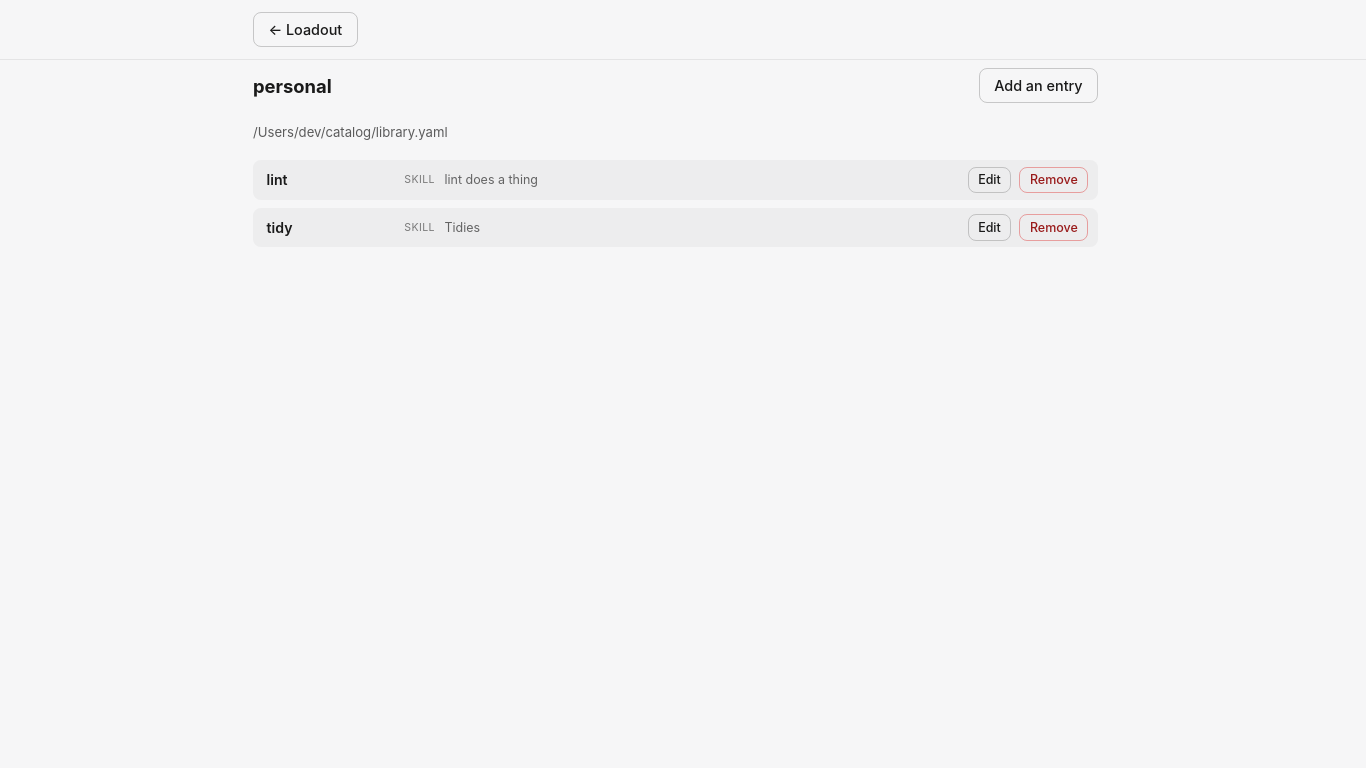
Scenario: UI-47: editing an entry › sends only the fields that changed, and can't save until something has
Click the button "Edit" in the row of "Tidies". click: {"x": 989, "y": 227}
box: [968,214,1011,241]
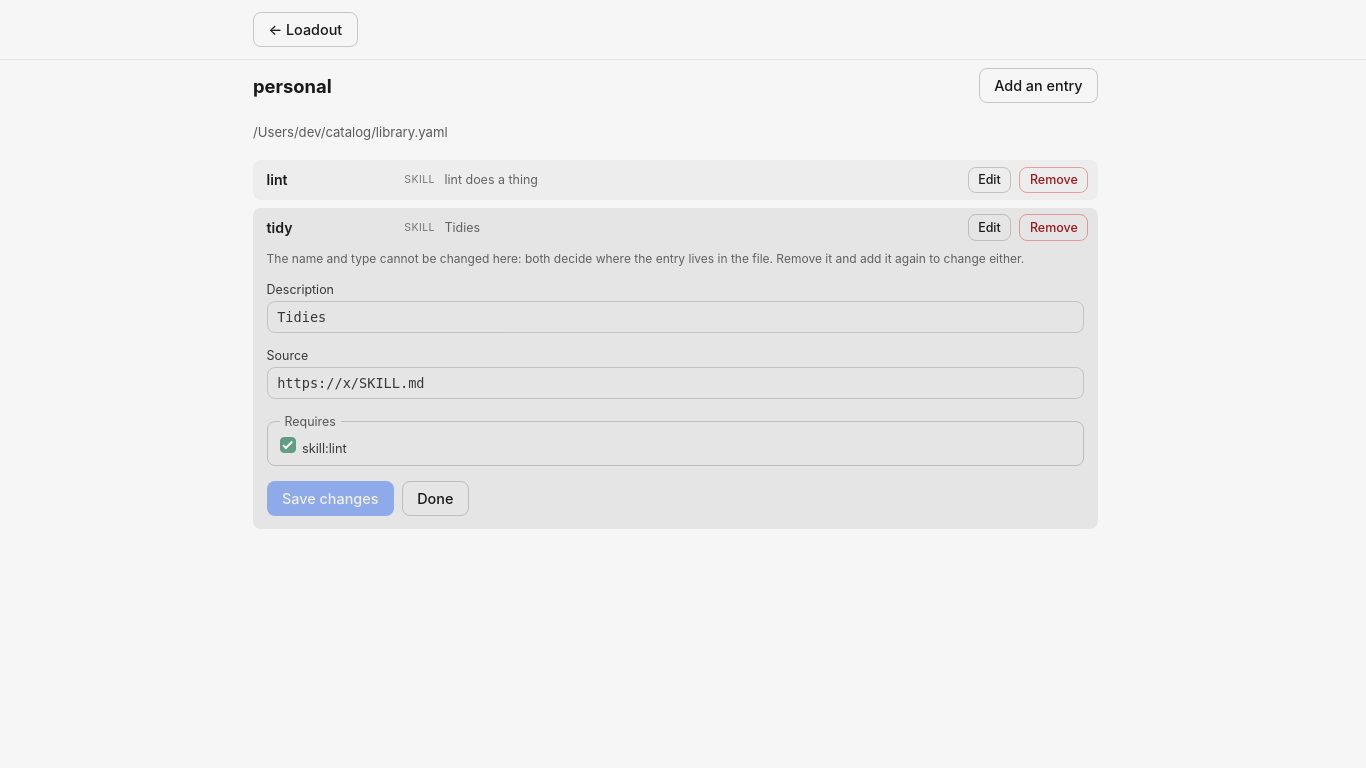
Expected: the text with class "editor__note" shows "The name and type cannot be changed here", [267,251,1024,266]
Expected: the button "Save changes" is disabled, [267,480,394,516]
Replace the text in the field labelled "Description" with "Tidies code ". click: {"x": 676, "y": 317}
box: [267,301,1084,333]
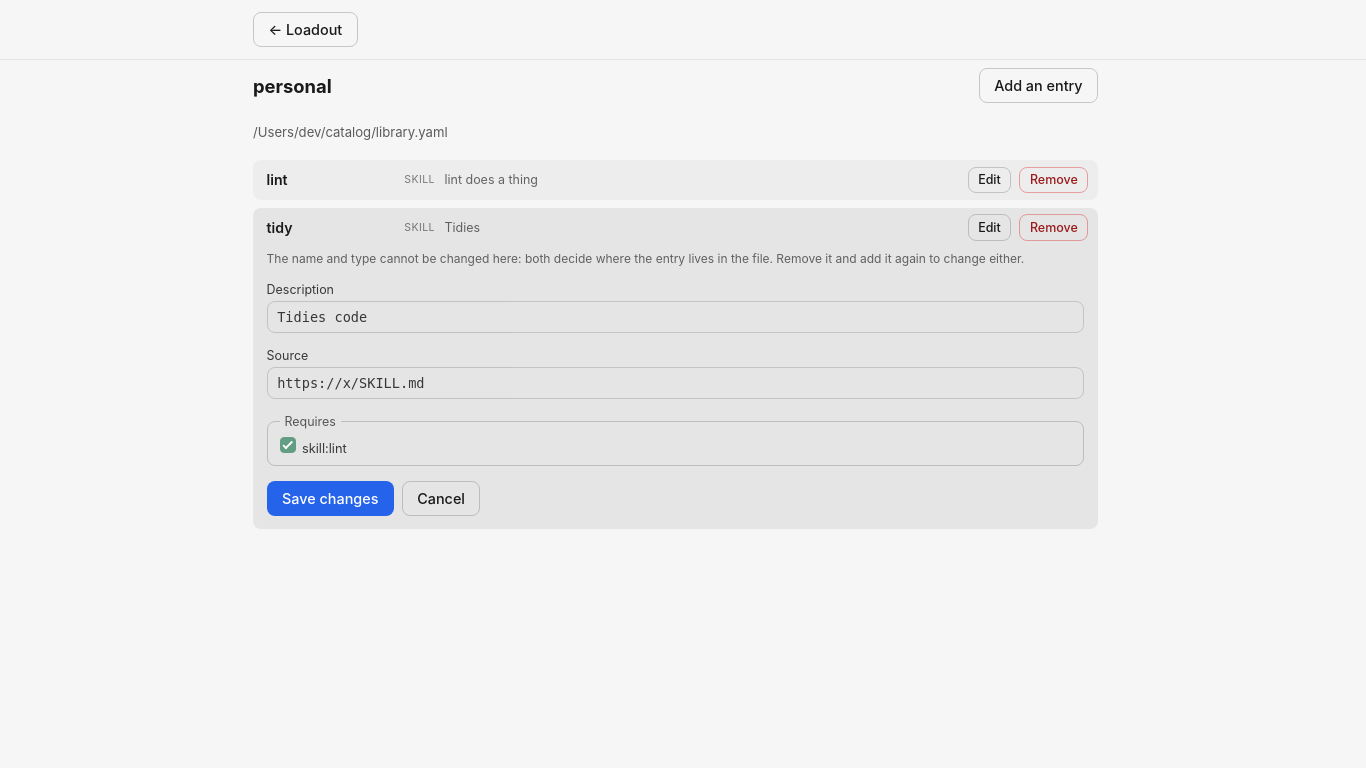
Expected: the button "Cancel" is shown, [402,480,480,516]
Submit the form, box [267,282,1084,516]
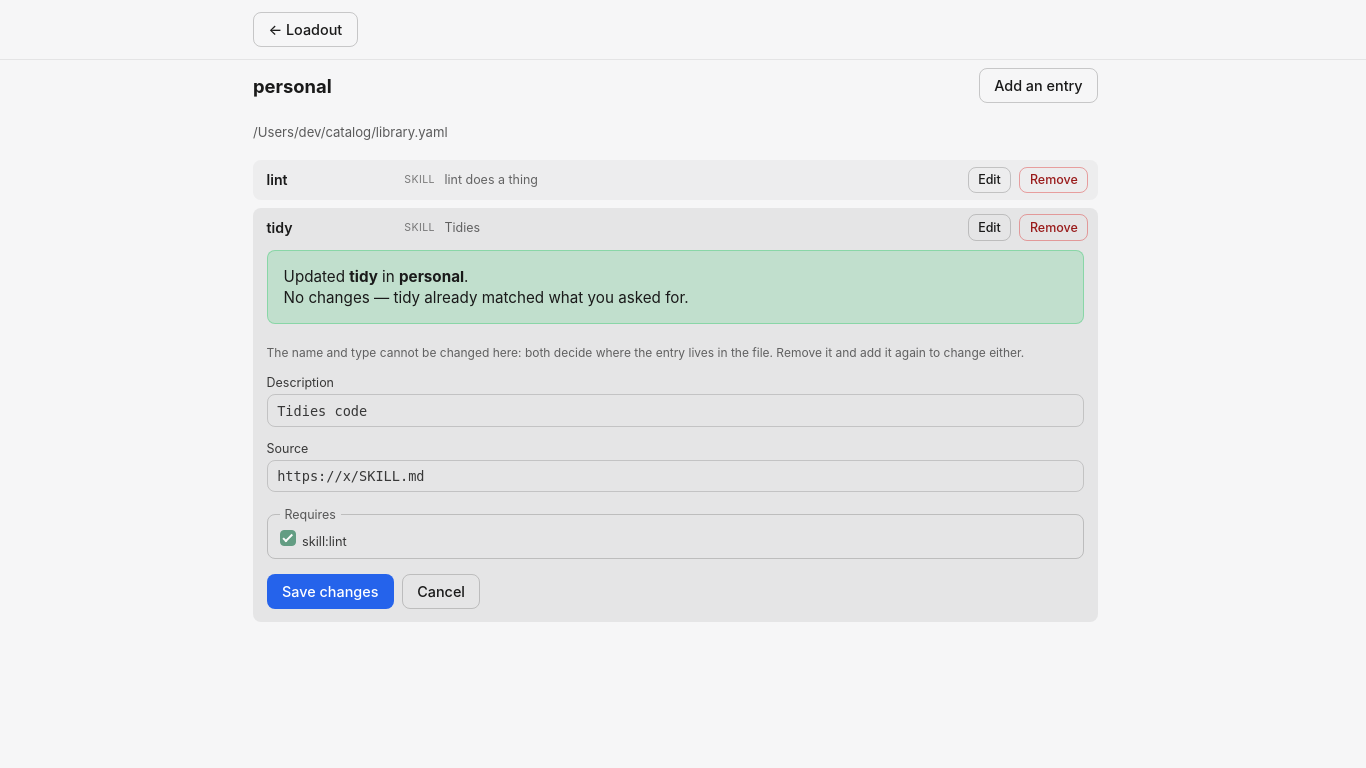
Expected: the element with class "editor__saved" reads "Updated tidy in personal.", [284,267,468,286]
